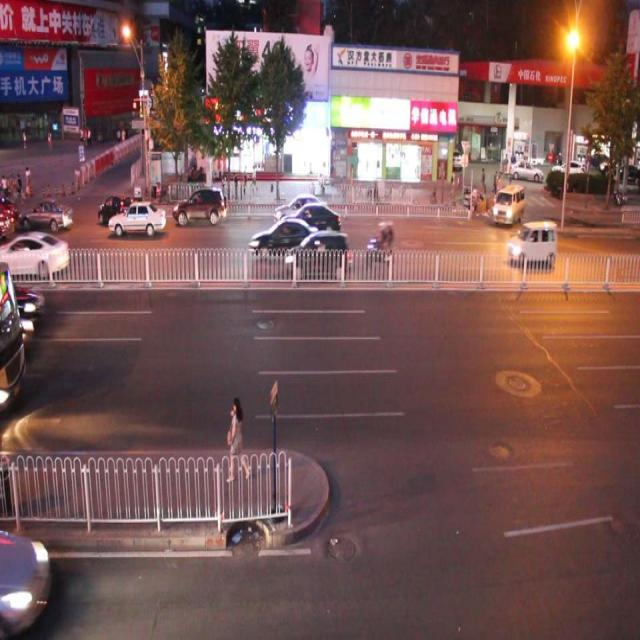car: (1, 526, 53, 634), (1, 228, 73, 279), (283, 228, 350, 275), (249, 217, 319, 258), (281, 195, 343, 236), (506, 217, 556, 265), (1, 286, 46, 338), (172, 185, 227, 227), (19, 196, 75, 234), (108, 201, 166, 236), (274, 191, 328, 227), (103, 185, 147, 225)
truck: (490, 182, 524, 225)
